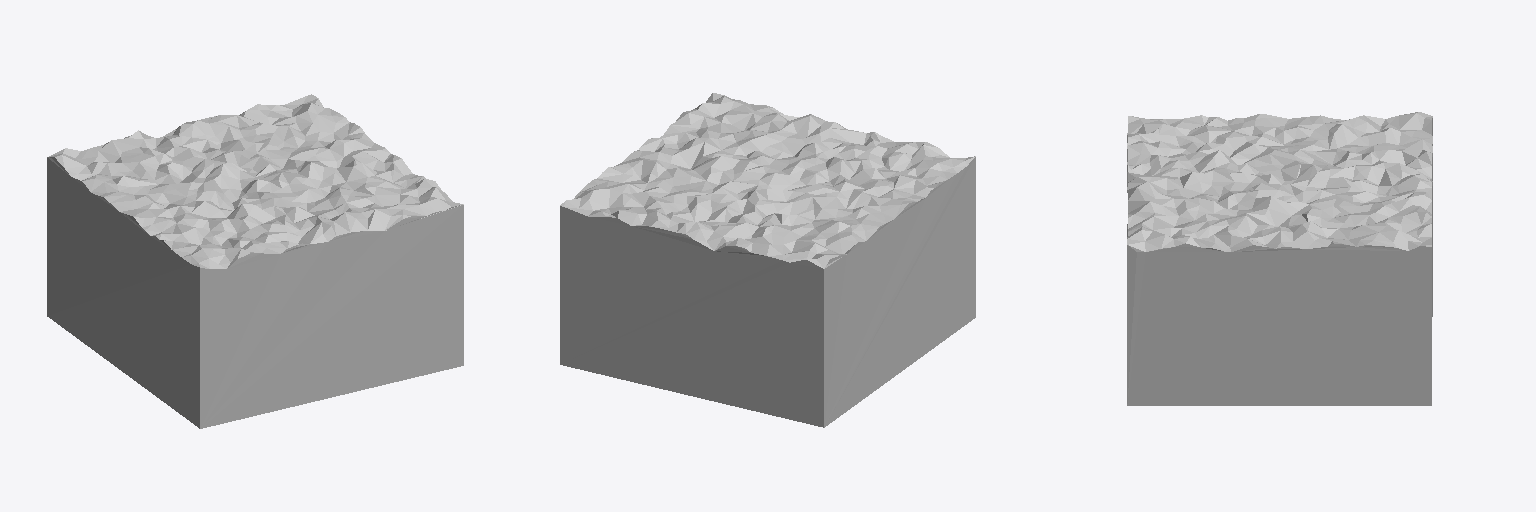
Rendered from water_000017.obj.
3 views of the same model, side by side, from view 1: azimuth 30°, elevation 25°; view 2: azimuth 150°, elevation 25°; view 3: azimuth 270°, elevation 25° (orthographic).
Parts seen in each view (by area): view 1: Plane; view 2: Plane; view 3: Plane.
Boxes of the visible parts, x1=… form: Plane: x1=47, y1=94, x2=463, y2=428; Plane: x1=560, y1=93, x2=975, y2=427; Plane: x1=1127, y1=112, x2=1432, y2=405.
Bounding box in the file's own units: 16.15 × 10.01 × 16.12.